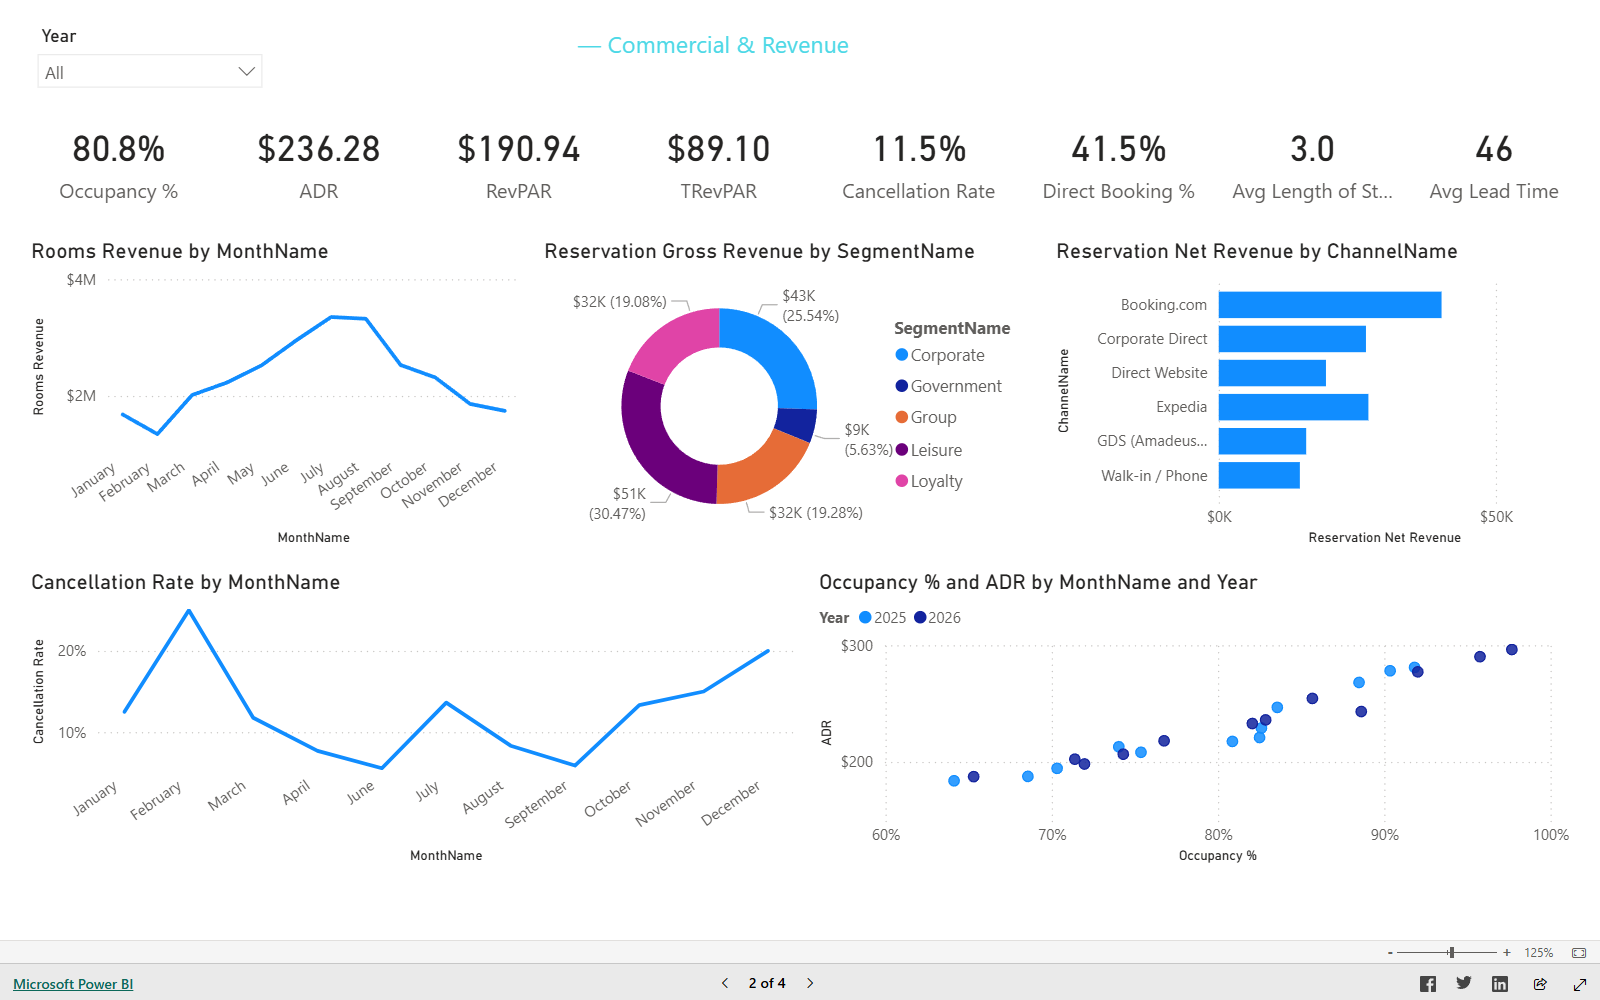

What the dashboard file says about the page in this screenshot:
{"tool":"powerbi","page":{"name":"Commercial & Revenue","canvas":[1280,720],"ordinal":1},"visuals":[{"type":"card","fields":{"Values":["_Measures.Occupancy %"]},"box":[20,80,150,95],"z":0},{"type":"card","fields":{"Values":["_Measures.ADR"]},"box":[180,80,150,95],"z":1},{"type":"card","fields":{"Values":["_Measures.RevPAR"]},"box":[340,80,150,95],"z":2},{"type":"card","fields":{"Values":["_Measures.TRevPAR"]},"box":[500,80,150,95],"z":3},{"type":"card","fields":{"Values":["_Measures.Cancellation Rate"]},"box":[660,80,150,95],"z":4},{"type":"card","fields":{"Values":["_Measures.Direct Booking %"]},"box":[820,80,150,95],"z":5},{"type":"card","fields":{"Values":["_Measures.Avg Length of Stay"]},"box":[980,80,140,95],"z":6},{"type":"card","fields":{"Values":["_Measures.Avg Lead Time"]},"box":[1130,80,130,95],"z":7},{"type":"lineChart","fields":{"Category":["Dim_Date.MonthName"],"Legend":["Dim_Date.Year"],"Y":["_Measures.Rooms Revenue"]},"box":[20,190,400,250],"z":8},{"type":"donutChart","fields":{"Category":["Dim_Segment.SegmentName"],"Y":["_Measures.Total Revenue"]},"box":[430,190,400,250],"z":9},{"type":"barChart","fields":{"Category":["Dim_Channel.ChannelName"],"Y":["_Measures.Net Revenue"]},"box":[840,190,420,250],"z":10},{"type":"lineChart","fields":{"Category":["Dim_Date.MonthName"],"Legend":["Dim_Date.Year"],"Y":["_Measures.Cancellation Rate"]},"box":[20,455,620,240],"z":11},{"type":"scatterChart","fields":{"X":["_Measures.Occupancy %"],"Y":["_Measures.ADR"],"Details":["Dim_Date.MonthName"]},"box":[650,455,610,240],"z":12},{"type":"slicer","fields":{"Values":["Dim_Date.Year"]},"box":[19.9,14.8,199.9,57.2],"z":13}]}

Visuals, with their boxes on the page's 1280x720 design canvas (x1, y1, x2, y2). These are canvas units, not pixel positions in the 1600x1000 screenshot, which may show the page scaled, cropped or inside an application window:
card - _Measures.Occupancy %: [20,80,170,175]
card - _Measures.ADR: [180,80,330,175]
card - _Measures.RevPAR: [340,80,490,175]
card - _Measures.TRevPAR: [500,80,650,175]
card - _Measures.Cancellation Rate: [660,80,810,175]
card - _Measures.Direct Booking %: [820,80,970,175]
card - _Measures.Avg Length of Stay: [980,80,1120,175]
card - _Measures.Avg Lead Time: [1130,80,1260,175]
lineChart - Dim_Date.MonthName x Dim_Date.Year: [20,190,420,440]
donutChart - Dim_Segment.SegmentName x _Measures.Total Revenue: [430,190,830,440]
barChart - Dim_Channel.ChannelName x _Measures.Net Revenue: [840,190,1260,440]
lineChart - Dim_Date.MonthName x Dim_Date.Year: [20,455,640,695]
scatterChart - _Measures.Occupancy % x _Measures.ADR: [650,455,1260,695]
slicer - Dim_Date.Year: [20,15,220,72]
